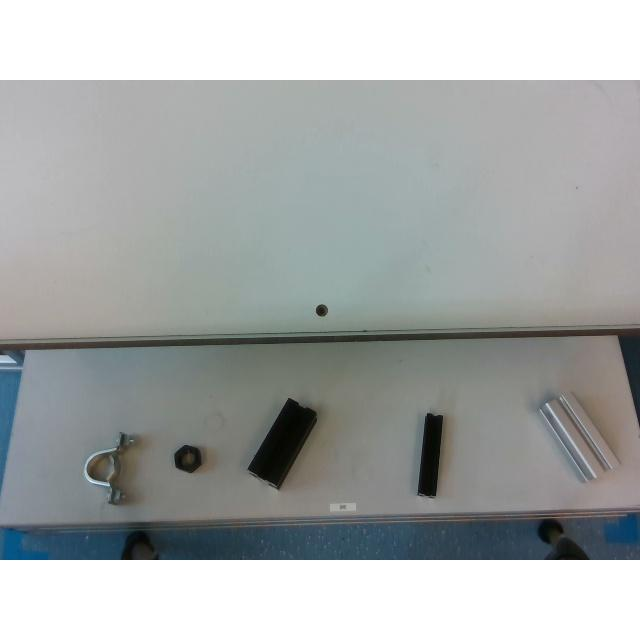F20_20_B: (418, 411, 442, 497)
Housing: (84, 433, 132, 502)
M20: (174, 444, 202, 472)
S40_40_B: (248, 398, 316, 489)
S40_40_G: (540, 392, 618, 481)
